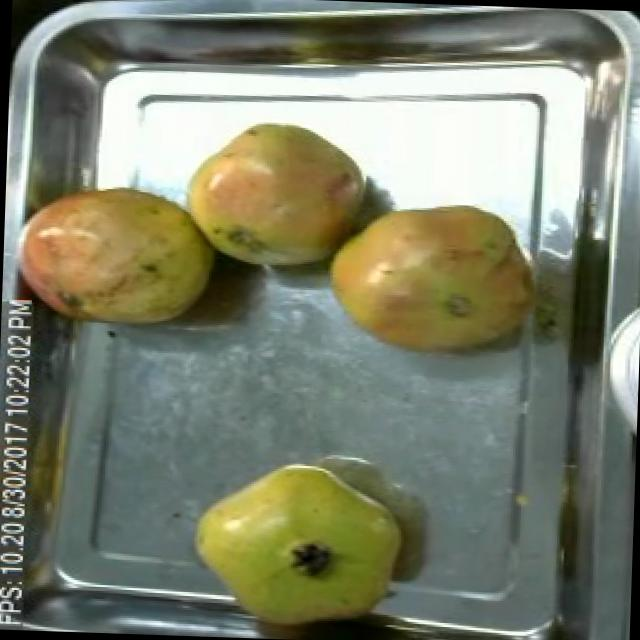fruit: (178, 446, 426, 640), (314, 192, 548, 368), (170, 113, 382, 278), (7, 178, 220, 334)
